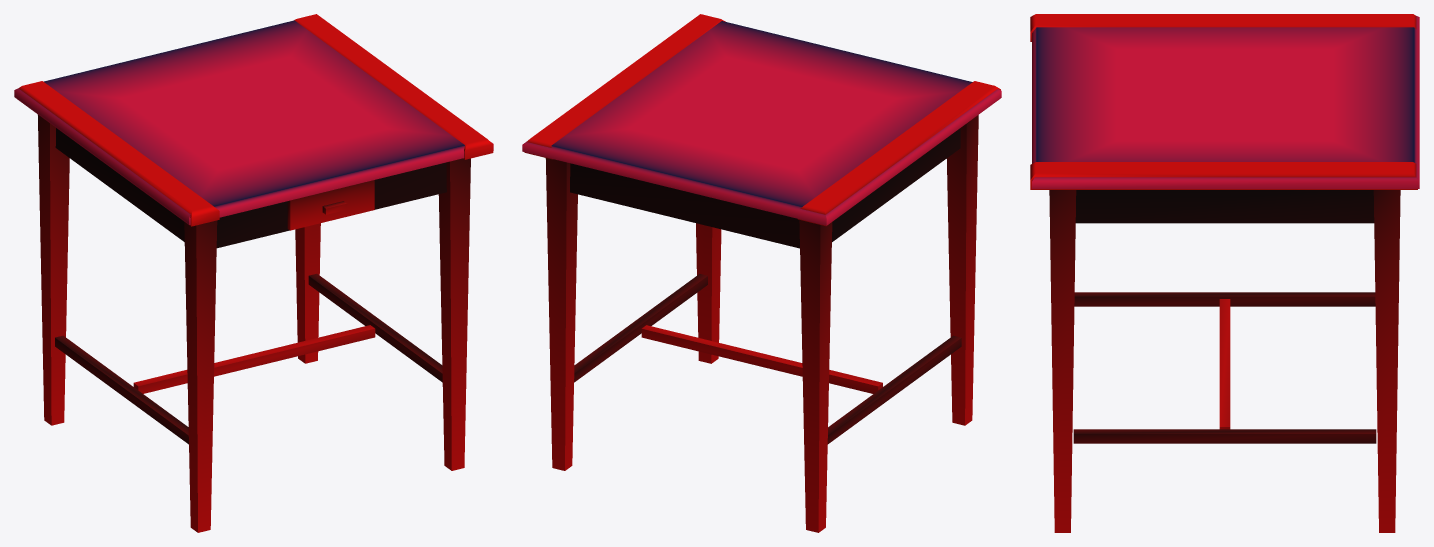
The model's file is CI_Cafe_Table_TwoSquare.glb.
3 views of the same model, side by side, from view 1: azimuth 30°, elevation 25°; view 2: azimuth 150°, elevation 25°; view 3: azimuth 270°, elevation 25° (orthographic). The views are drawn at different scales.
Parts seen in each view (by area): view 1: CI_Cafe_Table_TwoSquare; view 2: CI_Cafe_Table_TwoSquare; view 3: CI_Cafe_Table_TwoSquare.
Part boxes in pixels (bbox=[...]): CI_Cafe_Table_TwoSquare: bbox=[14, 14, 493, 532]; CI_Cafe_Table_TwoSquare: bbox=[522, 14, 1001, 532]; CI_Cafe_Table_TwoSquare: bbox=[1030, 14, 1419, 532].
Bounding box in the file's own units: 0.72 × 0.75 × 0.72.
